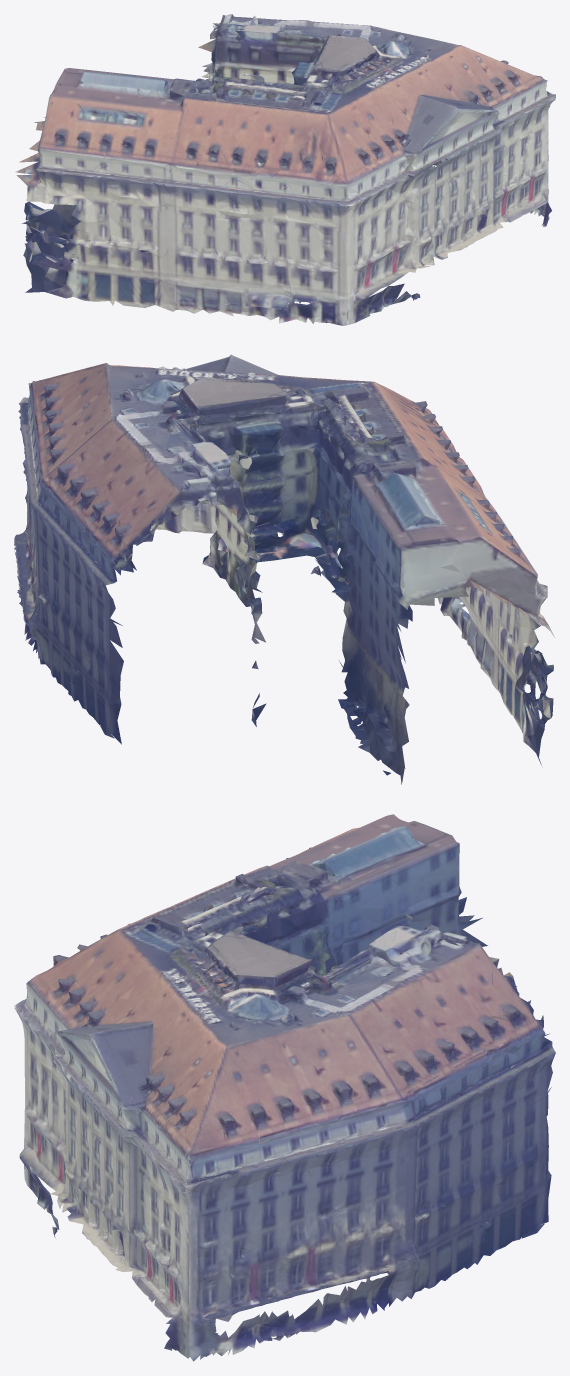
File: hotel-des-bergues.glb
3 renders of one model, top to bottom at view 1: azimuth 30°, elevation 25°; view 2: azimuth 150°, elevation 25°; view 3: azimuth 270°, elevation 25°, orthographic. The views are drawn at different scales.
Size of the model in its own units: 78.31 by 32.54 by 54.67.
Materials: 3 (3 with a texture image).
